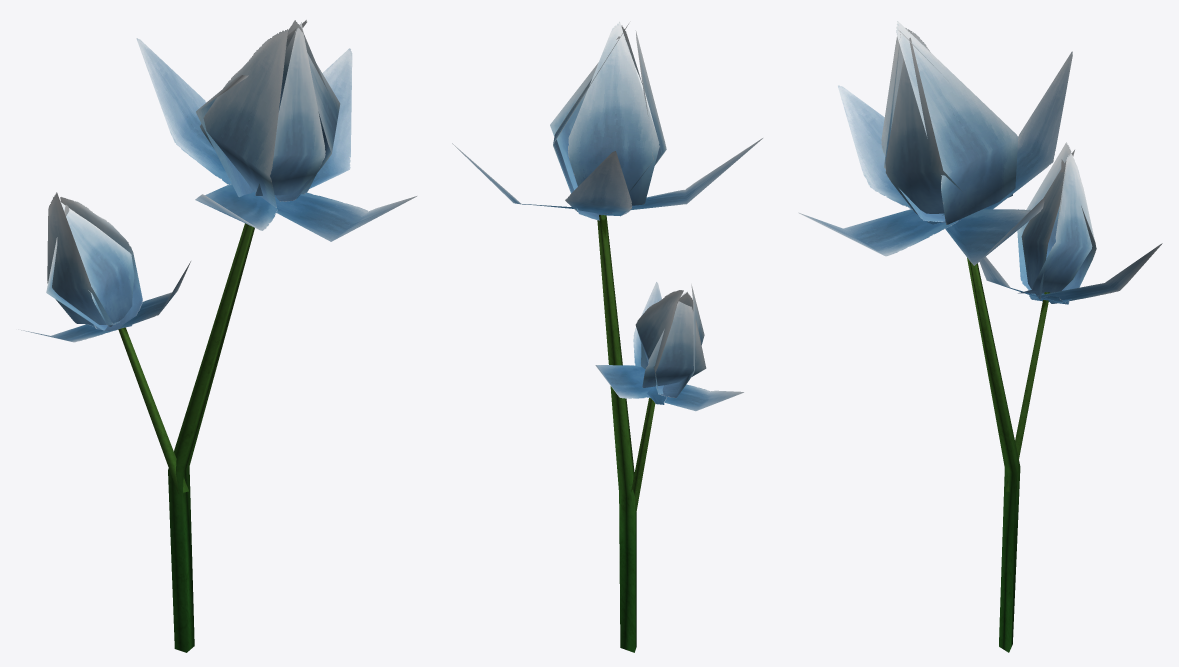
File: flowers_BlueTulip_2.glb
3 views of the same model, side by side, from view 1: azimuth 30°, elevation 25°; view 2: azimuth 150°, elevation 25°; view 3: azimuth 270°, elevation 25° (orthographic). The views are drawn at different scales.
Parts seen in each view (by area): view 1: flowers_BlueTulip_2; view 2: flowers_BlueTulip_2; view 3: flowers_BlueTulip_2.
Part boxes in pixels (<box>): flowers_BlueTulip_2: <box>18,20,416,652</box>; flowers_BlueTulip_2: <box>452,21,762,652</box>; flowers_BlueTulip_2: <box>798,21,1162,652</box>.
Bounding box in the file's own units: 0.4268 × 0.8012 × 0.4061.
2 materials, 2 textured.
